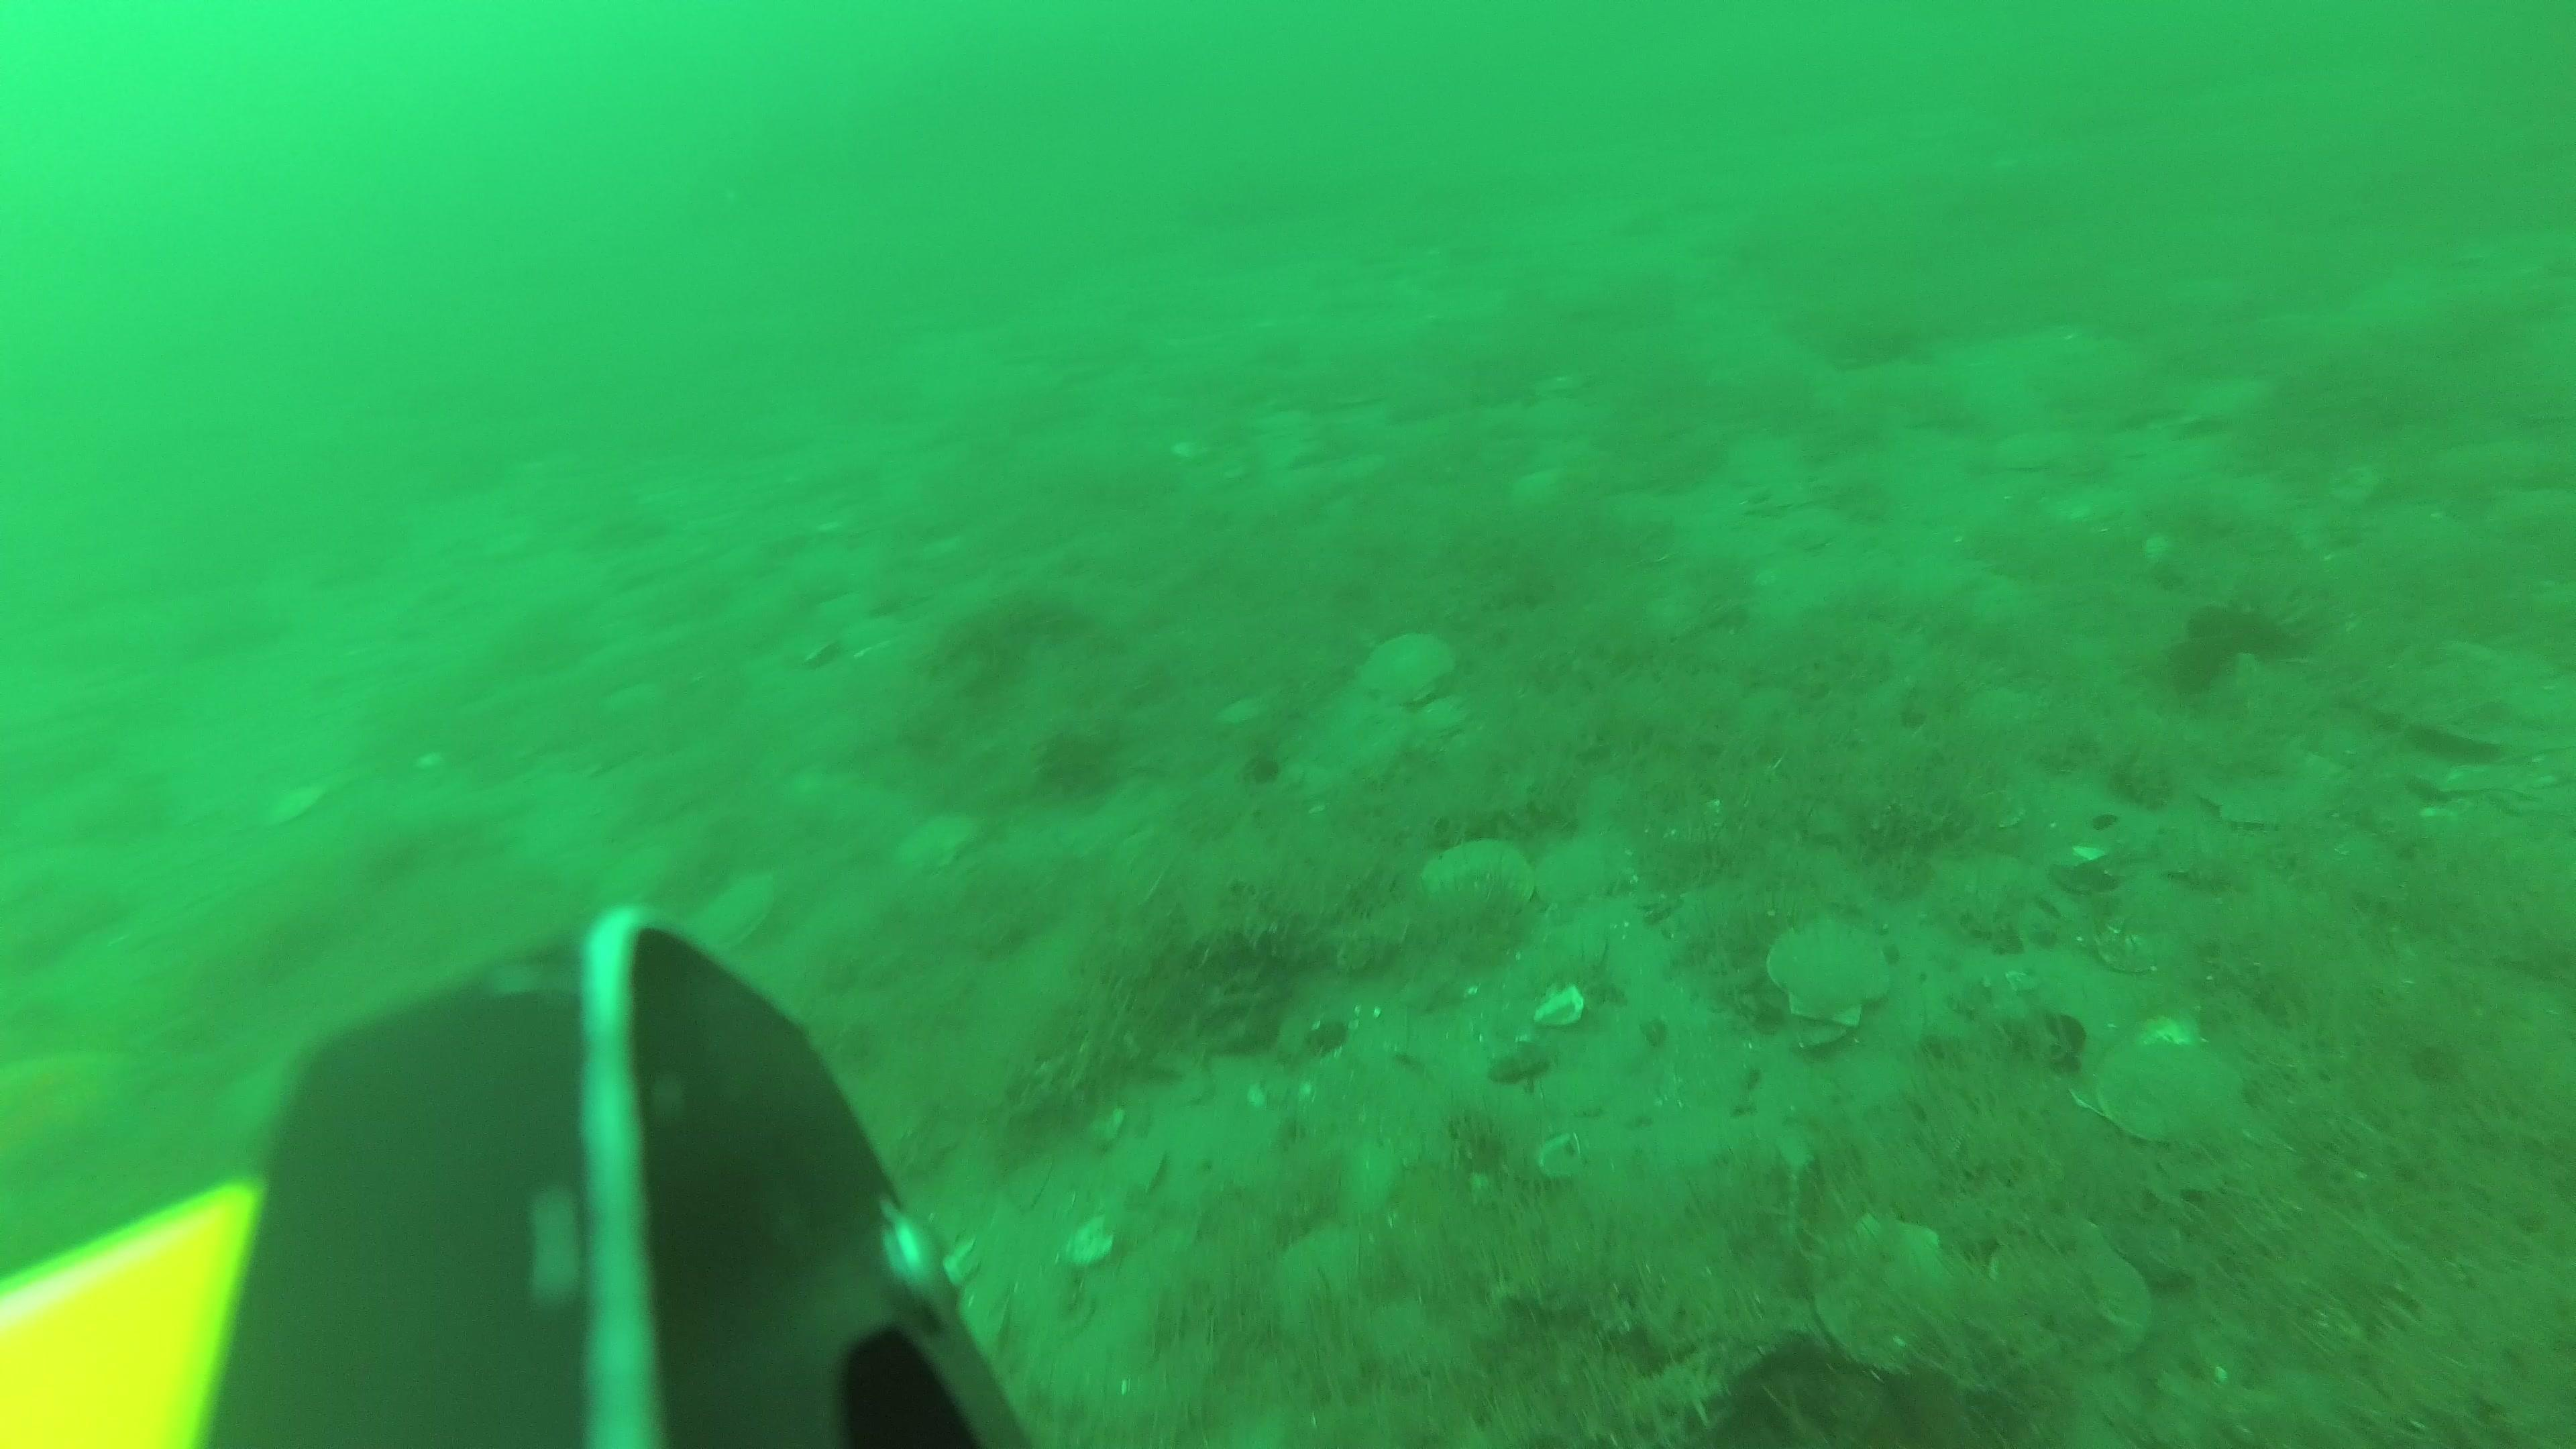scallop: (1810, 1203, 1980, 1378), (1983, 1221, 2162, 1373), (2091, 1039, 2263, 1154), (1766, 915, 1893, 1033), (1417, 837, 1541, 929), (2192, 755, 2327, 833), (1361, 623, 1465, 711), (699, 867, 780, 957), (895, 809, 984, 878)
starfish: (2, 1030, 145, 1189)
